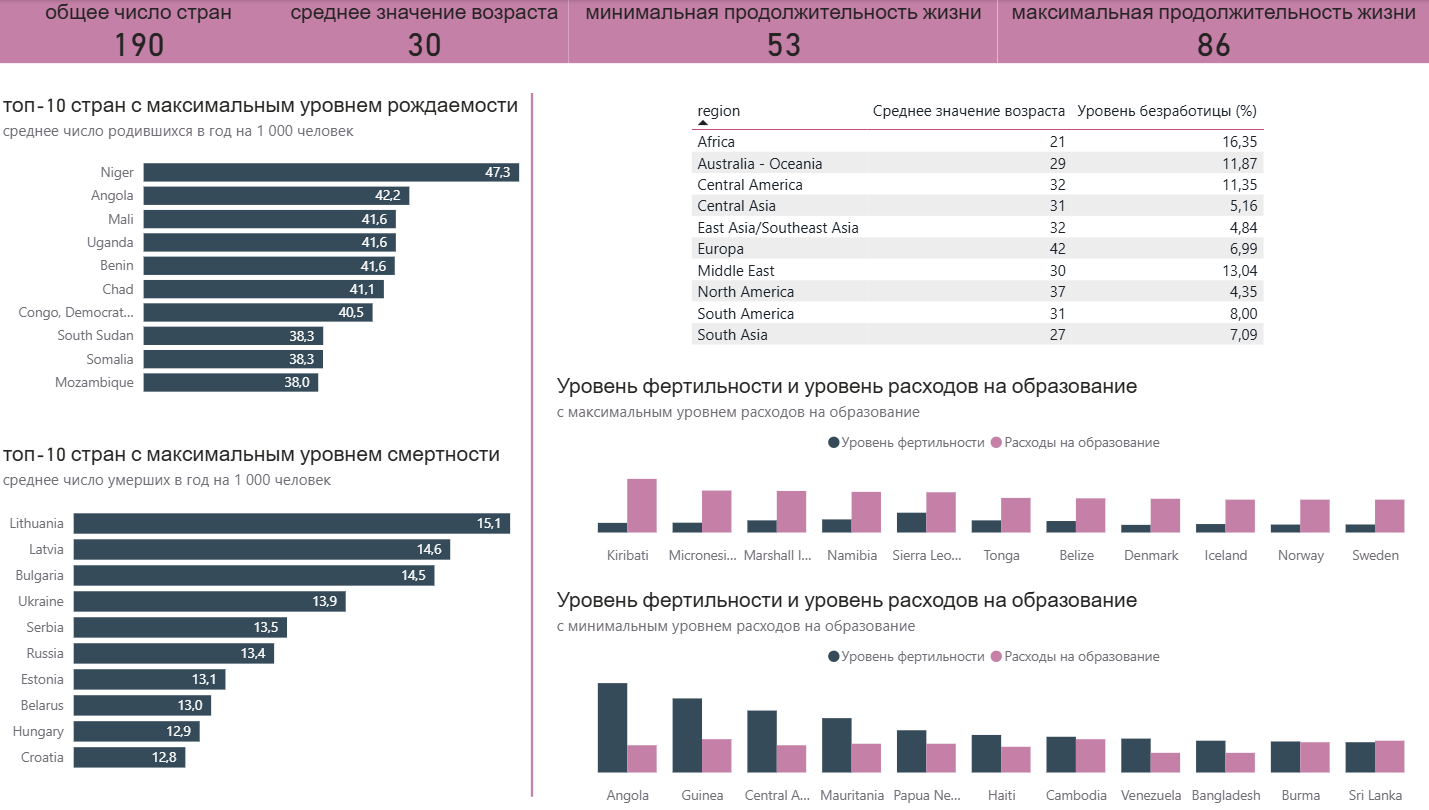

Layout of this report page (visuals, bound fields, positions):
{"tool":"powerbi","page":{"name":"Страница 1","canvas":[1280,720],"ordinal":0},"visuals":[{"type":"card","title":"общее число стран","fields":{"Values":["people_and_society.Число стран"]},"box":[0,0,250.9,55.9],"z":0},{"type":"card","title":"среднее значение возраста","fields":{"Values":["people_and_society.Среднее значение возраста"]},"box":[250.9,0,256.3,55.9],"z":1000},{"type":"card","title":"максимальная продолжительность жизни","fields":{"Values":["people_and_society.Максимальная продолжительность жизни"]},"box":[887.6,0,383.1,55.9],"z":2000},{"type":"card","title":"минимальная продолжительность жизни","fields":{"Values":["people_and_society.Минимальная продолжительность жизни"]},"box":[507.2,0,380.4,55.9],"z":3000},{"type":"barChart","title":"топ-10 стран с максимальным уровнем рождаемости","fields":{"Category":["people_and_society.country"],"Y":["people_and_society.Уровень рождаемости"]},"box":[0,82.5,468.2,278.4],"z":4000},{"type":"barChart","title":"топ-10 стран с максимальным уровнем смертности","fields":{"Category":["people_and_society.country"],"Y":["people_and_society.Уровень смертности"]},"box":[0,391.9,460.2,303.3],"z":5000},{"type":"clusteredColumnChart","title":"Уровень фертильности  и уровень расходов на образование ","fields":{"Y":["people_and_society.Уровень фертильности","education.Расходы на образование"],"Category":["people_and_society.country"]},"box":[491.2,521.4,789.2,198.6],"z":6000},{"type":"clusteredColumnChart","title":"Уровень фертильности  и уровень расходов на образование ","fields":{"Y":["people_and_society.Уровень фертильности","education.Расходы на образование"],"Category":["people_and_society.country"]},"box":[491.2,331.6,789.2,175.6],"z":7000},{"type":"tableEx","fields":{"Values":["people_and_society.region","people_and_society.Среднее значение возраста","unemployment.Уровень безработицы"]},"box":[610,82.5,551.5,239.4],"z":8000},{"type":"shape","box":[422.1,82.5,104.6,624.2],"z":9000}]}

Visuals, with their boxes in screenshot pixels (x1, y1, x2, y2), scaled from the page's 1280x720 canvas onto the 1429x810 screenshot:
"общее число стран" card: bbox=(0, 0, 280, 63)
"среднее значение возраста" card: bbox=(280, 0, 566, 63)
"максимальная продолжительность жизни" card: bbox=(991, 0, 1419, 63)
"минимальная продолжительность жизни" card: bbox=(566, 0, 991, 63)
"топ-10 стран с максимальным уровнем рождаемости" barChart: bbox=(0, 93, 523, 406)
"топ-10 стран с максимальным уровнем смертности" barChart: bbox=(0, 441, 514, 782)
"Уровень фертильности  и уровень расходов на образование " clusteredColumnChart: bbox=(548, 587, 1428, 809)
"Уровень фертильности  и уровень расходов на образование " clusteredColumnChart: bbox=(548, 373, 1428, 571)
tableEx - people_and_society.region x people_and_society.Среднее значение возраста: bbox=(681, 93, 1297, 362)
shape: bbox=(471, 93, 588, 795)
